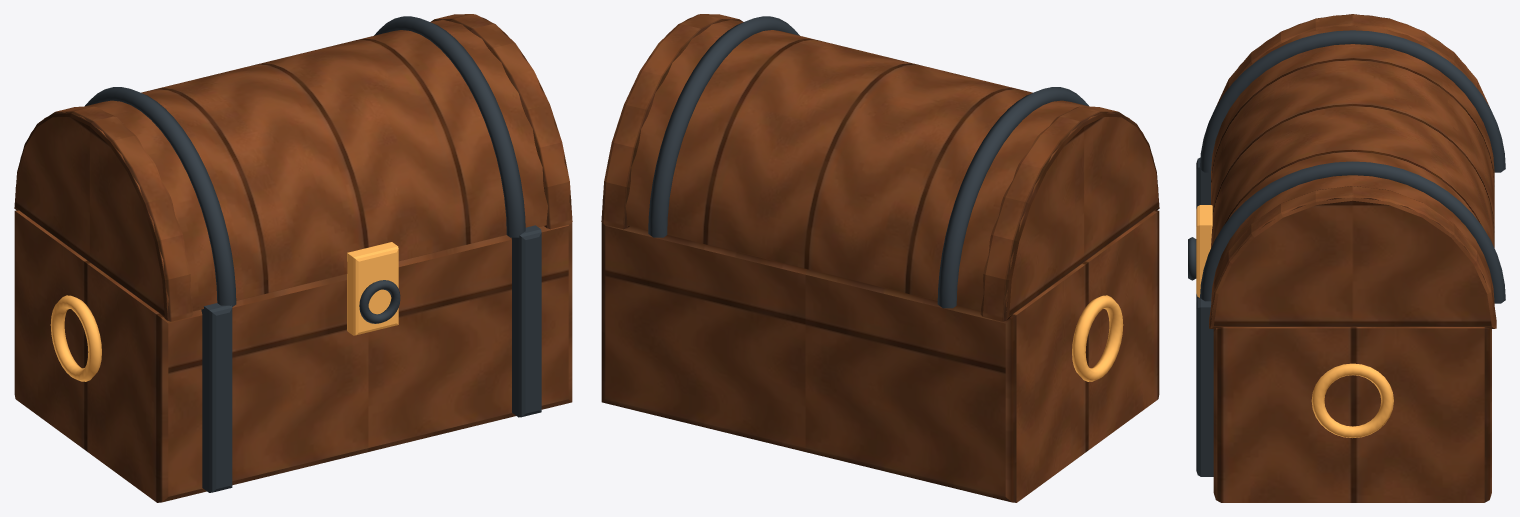
Rendered from hollowwick-halloween-domed-relic-chest-41b52a41__21655.glb.
The picture shows the model from 3 angles, left to right: view 1: azimuth 30°, elevation 25°; view 2: azimuth 150°, elevation 25°; view 3: azimuth 270°, elevation 25°; orthographic projection. The views are drawn at different scales.
Parts seen in each view (by area): view 1: domed-relic-chest; view 2: domed-relic-chest; view 3: domed-relic-chest.
Boxes of the visible parts, <box> form: domed-relic-chest: <box>14,14,572,502</box>; domed-relic-chest: <box>601,14,1159,502</box>; domed-relic-chest: <box>1188,14,1505,502</box>.
Bounding box in the file's own units: 0.8908 × 0.646 × 0.5938.
Materials: 3 (1 with a texture image).
